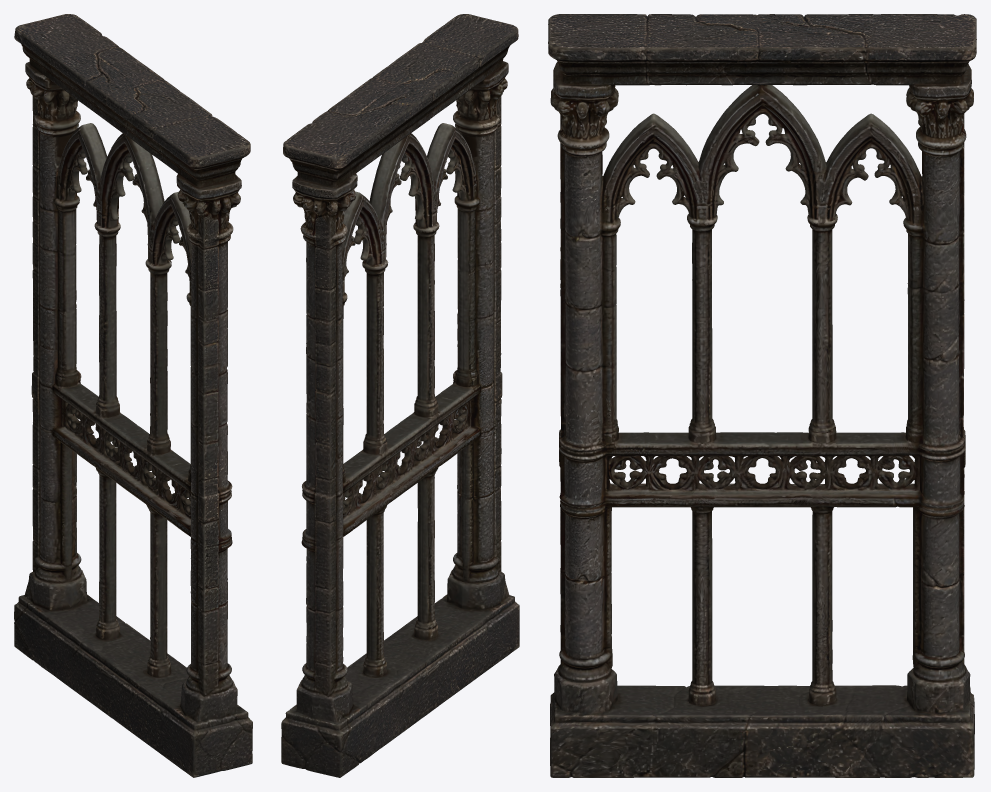
File: raw_wallframe.glb
The picture shows the model from 3 angles, left to right: view 1: azimuth 30°, elevation 25°; view 2: azimuth 150°, elevation 25°; view 3: azimuth 270°, elevation 25°; orthographic projection. The views are drawn at different scales.
Visible parts, largest first — view 1: wallframe; view 2: wallframe; view 3: wallframe.
Boxes of the visible parts, x1,y1,x2,y2 form: wallframe: (14, 14, 252, 777); wallframe: (281, 14, 519, 777); wallframe: (548, 14, 976, 777).
Bounding box in the file's own units: 0.1042 × 1 × 0.532.
Materials: 1 (1 with a texture image).
